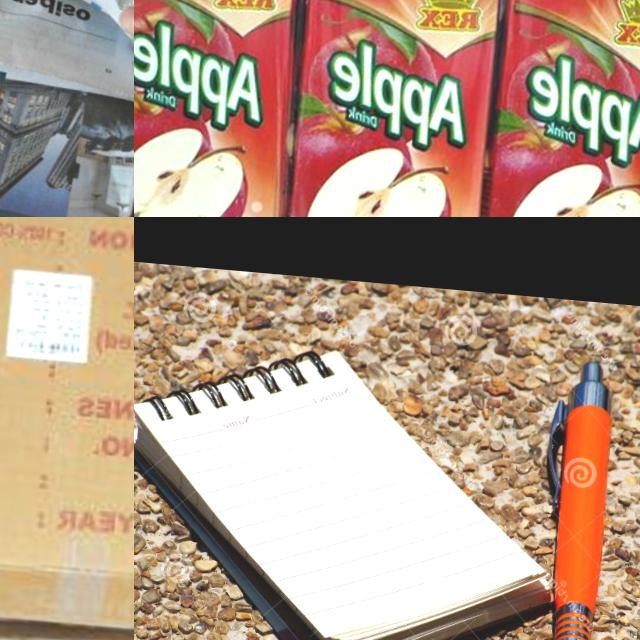caixinha: (270, 0, 505, 217), (466, 0, 640, 217), (134, 0, 306, 217)
papel: (134, 330, 573, 640), (0, 0, 134, 217)
papelão: (0, 217, 134, 640)
